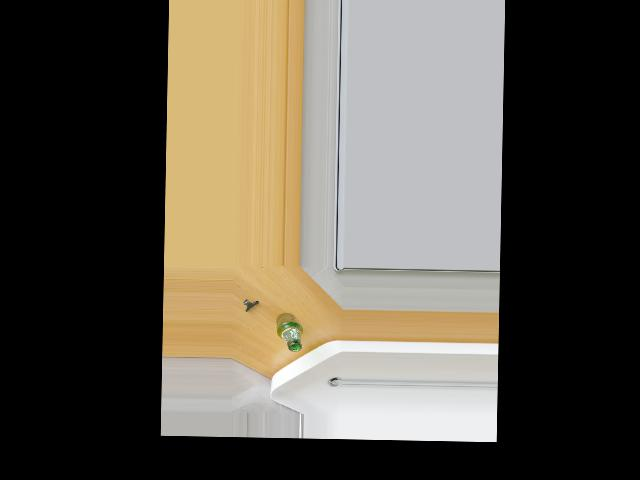beer: (276, 311, 302, 351)
